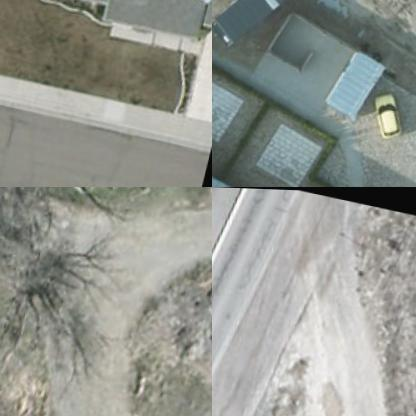car: (366, 84, 414, 140)
